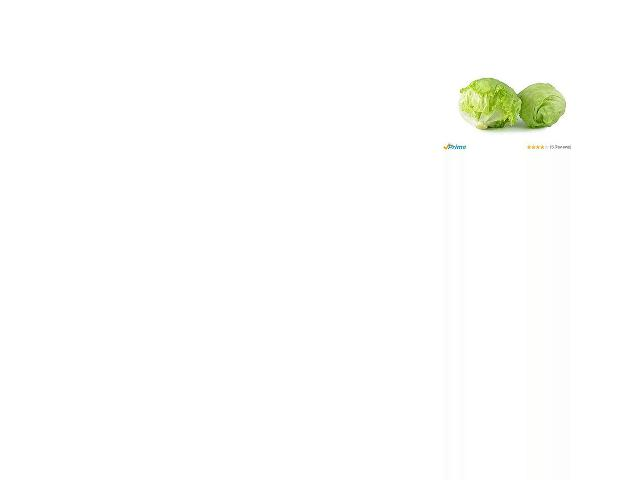lettuce: (503, 82, 567, 138)
